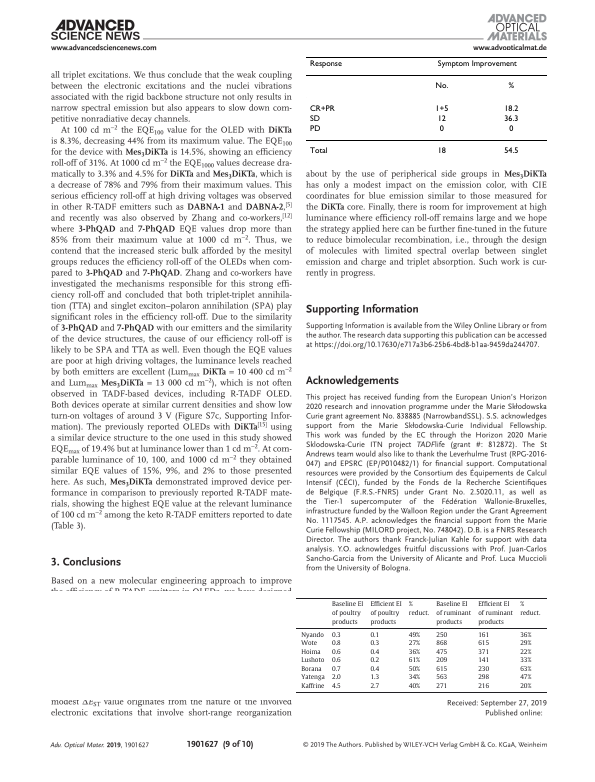borderless: (304, 55, 548, 164), (295, 596, 547, 692)
cell: (435, 601, 472, 626), (477, 601, 514, 626), (331, 601, 364, 626), (370, 601, 403, 626), (436, 60, 517, 69), (519, 601, 542, 617), (408, 601, 430, 617), (308, 60, 342, 69), (308, 104, 335, 114), (300, 682, 326, 691), (300, 656, 325, 665), (300, 674, 326, 682), (300, 631, 325, 639), (300, 665, 323, 673), (308, 147, 328, 156), (300, 648, 322, 656), (300, 639, 318, 648), (503, 104, 519, 114), (503, 114, 519, 124), (434, 104, 449, 114), (503, 147, 519, 156), (434, 82, 449, 91), (308, 114, 320, 124), (408, 639, 421, 648), (435, 639, 448, 648), (477, 639, 490, 648), (519, 639, 532, 648), (408, 656, 421, 665), (435, 656, 448, 665), (477, 656, 490, 665), (519, 656, 532, 665), (408, 682, 421, 691), (435, 682, 448, 691), (477, 682, 490, 691), (519, 682, 532, 691), (308, 125, 321, 134), (408, 631, 421, 639), (435, 631, 448, 639), (477, 631, 490, 639), (519, 631, 532, 639), (408, 648, 421, 656), (435, 648, 448, 656), (477, 648, 490, 656), (519, 648, 532, 656), (408, 665, 421, 673), (435, 665, 448, 673), (477, 665, 490, 673), (519, 665, 532, 673), (408, 674, 421, 682), (435, 674, 448, 682), (477, 674, 490, 682), (519, 674, 532, 682), (436, 114, 446, 124), (331, 639, 342, 648), (331, 656, 342, 665), (331, 682, 342, 691), (370, 639, 380, 648), (370, 656, 380, 665), (370, 682, 380, 691), (436, 147, 446, 156), (331, 631, 342, 639), (331, 648, 342, 656), (331, 665, 342, 673), (331, 674, 342, 682), (370, 631, 380, 639), (370, 648, 380, 656), (370, 665, 380, 673), (370, 674, 380, 682), (507, 82, 515, 91), (438, 125, 444, 134), (508, 125, 514, 134)
